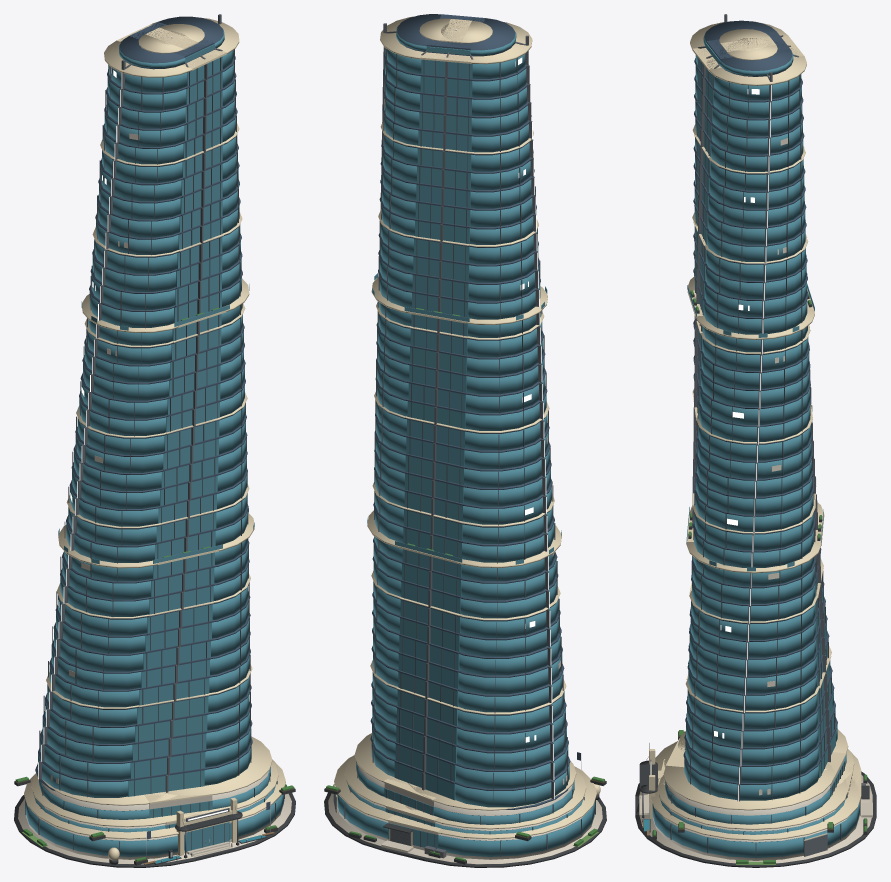
The model's file is main_tower.glb.
3 views of the same model, side by side, from view 1: azimuth 30°, elevation 25°; view 2: azimuth 150°, elevation 25°; view 3: azimuth 270°, elevation 25° (orthographic).
Visible parts, largest first — view 1: main_podium_glass_band_0_cap, main_podium_cornice_2_cap.001, main_shaft_glass_cap.002, main_shaft_glass_cap.004, main_shaft_glass_cap.014, main_shaft_glass_cap.006, main_shaft_glass_cap.008, main_shaft_glass_cap.012, main_shaft_glass_cap, main_shaft_glass_cap.010, main_shaft_glass_cap.022, main_shaft_glass_cap.018 (+99 smaller); view 2: main_podium_glass_band_0_cap, main_shaft_glass_cap.002, main_shaft_glass_cap, main_shaft_glass_cap.004, main_shaft_glass_cap.008, main_shaft_glass_cap.006, main_shaft_glass_cap.012, main_shaft_glass_cap.010, main_shaft_glass_cap.014, main_shaft_glass_cap.016, main_shaft_glass_cap.018, main_shaft_glass_cap.022 (+100 smaller); view 3: main_podium_glass_band_0_cap.001, main_podium_cornice_2_cap.001, main_shaft_glass_cap.003, main_shaft_glass_cap.009, main_shaft_glass_cap.001, main_shaft_glass_cap.005, main_shaft_glass_cap.007, main_shaft_glass_cap.015, main_shaft_glass_cap.013, main_shaft_glass_cap.011, main_shaft_glass_cap.017, main_shaft_glass_cap.023 (+49 smaller).
Part boxes in pixels (box(x1,y1,x2,y2)): main_podium_glass_band_0_cap: box(25, 801, 177, 856); main_podium_cornice_2_cap.001: box(161, 736, 272, 795); main_shaft_glass_cap.002: box(40, 736, 130, 779); main_shaft_glass_cap.004: box(42, 718, 132, 761); main_shaft_glass_cap.014: box(54, 630, 143, 671); main_shaft_glass_cap.006: box(45, 700, 134, 743); main_shaft_glass_cap.008: box(47, 684, 136, 725); main_shaft_glass_cap.012: box(51, 647, 141, 689); main_shaft_glass_cap: box(38, 754, 128, 797); main_shaft_glass_cap.010: box(49, 665, 139, 707); main_shaft_glass_cap.022: box(62, 559, 150, 599); main_shaft_glass_cap.018: box(58, 595, 147, 635); main_podium_glass_band_0_cap: box(438, 801, 594, 856); main_shaft_glass_cap.002: box(456, 745, 568, 788); main_shaft_glass_cap: box(455, 764, 569, 807); main_shaft_glass_cap.004: box(456, 727, 566, 769); main_shaft_glass_cap.008: box(457, 691, 564, 731); main_shaft_glass_cap.006: box(457, 708, 565, 750); main_shaft_glass_cap.012: box(458, 652, 562, 694); main_shaft_glass_cap.010: box(458, 671, 563, 712); main_shaft_glass_cap.014: box(459, 634, 560, 675); main_shaft_glass_cap.016: box(459, 615, 559, 656); main_shaft_glass_cap.018: box(460, 598, 558, 637); main_shaft_glass_cap.022: box(461, 560, 556, 600); main_podium_glass_band_0_cap.001: box(652, 801, 859, 857); main_podium_cornice_2_cap.001: box(663, 763, 834, 810); main_shaft_glass_cap.003: box(685, 741, 818, 782); main_shaft_glass_cap.009: box(687, 689, 817, 729); main_shaft_glass_cap.001: box(684, 758, 818, 800); main_shaft_glass_cap.005: box(686, 723, 818, 764); main_shaft_glass_cap.007: box(687, 706, 817, 747); main_shaft_glass_cap.015: box(690, 636, 815, 675); main_shaft_glass_cap.013: box(689, 653, 816, 693); main_shaft_glass_cap.011: box(688, 670, 816, 710); main_shaft_glass_cap.017: box(690, 618, 815, 657); main_shaft_glass_cap.023: box(692, 565, 814, 603).
Bounding box in the file's own units: 50 × 148 × 42.
